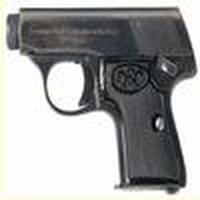gun: (5, 6, 200, 194)
